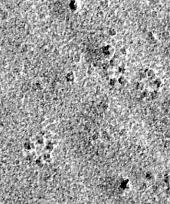rosette_object: (23, 136, 56, 169), (133, 68, 164, 101)
